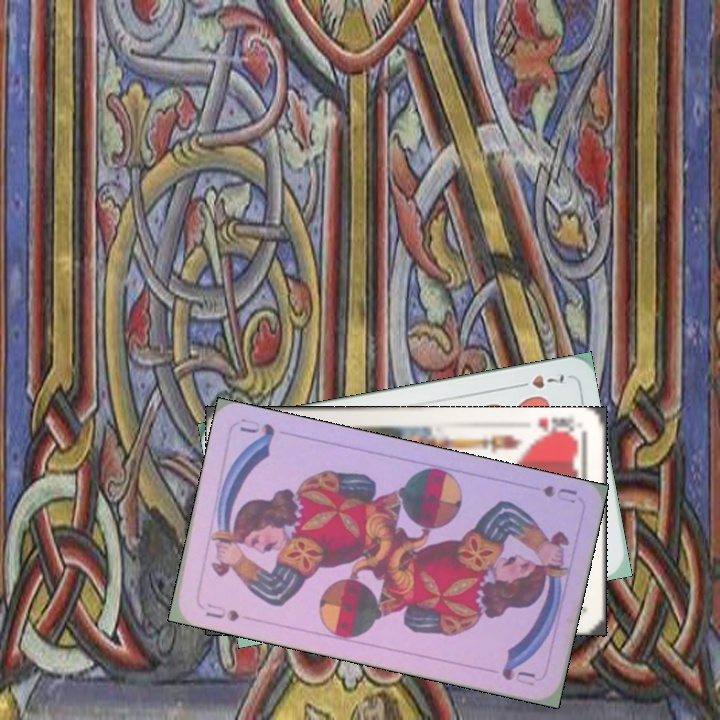H7: (510, 370, 569, 391)
HK: (529, 414, 580, 441)
SU: (539, 481, 580, 506), (202, 599, 242, 624)
